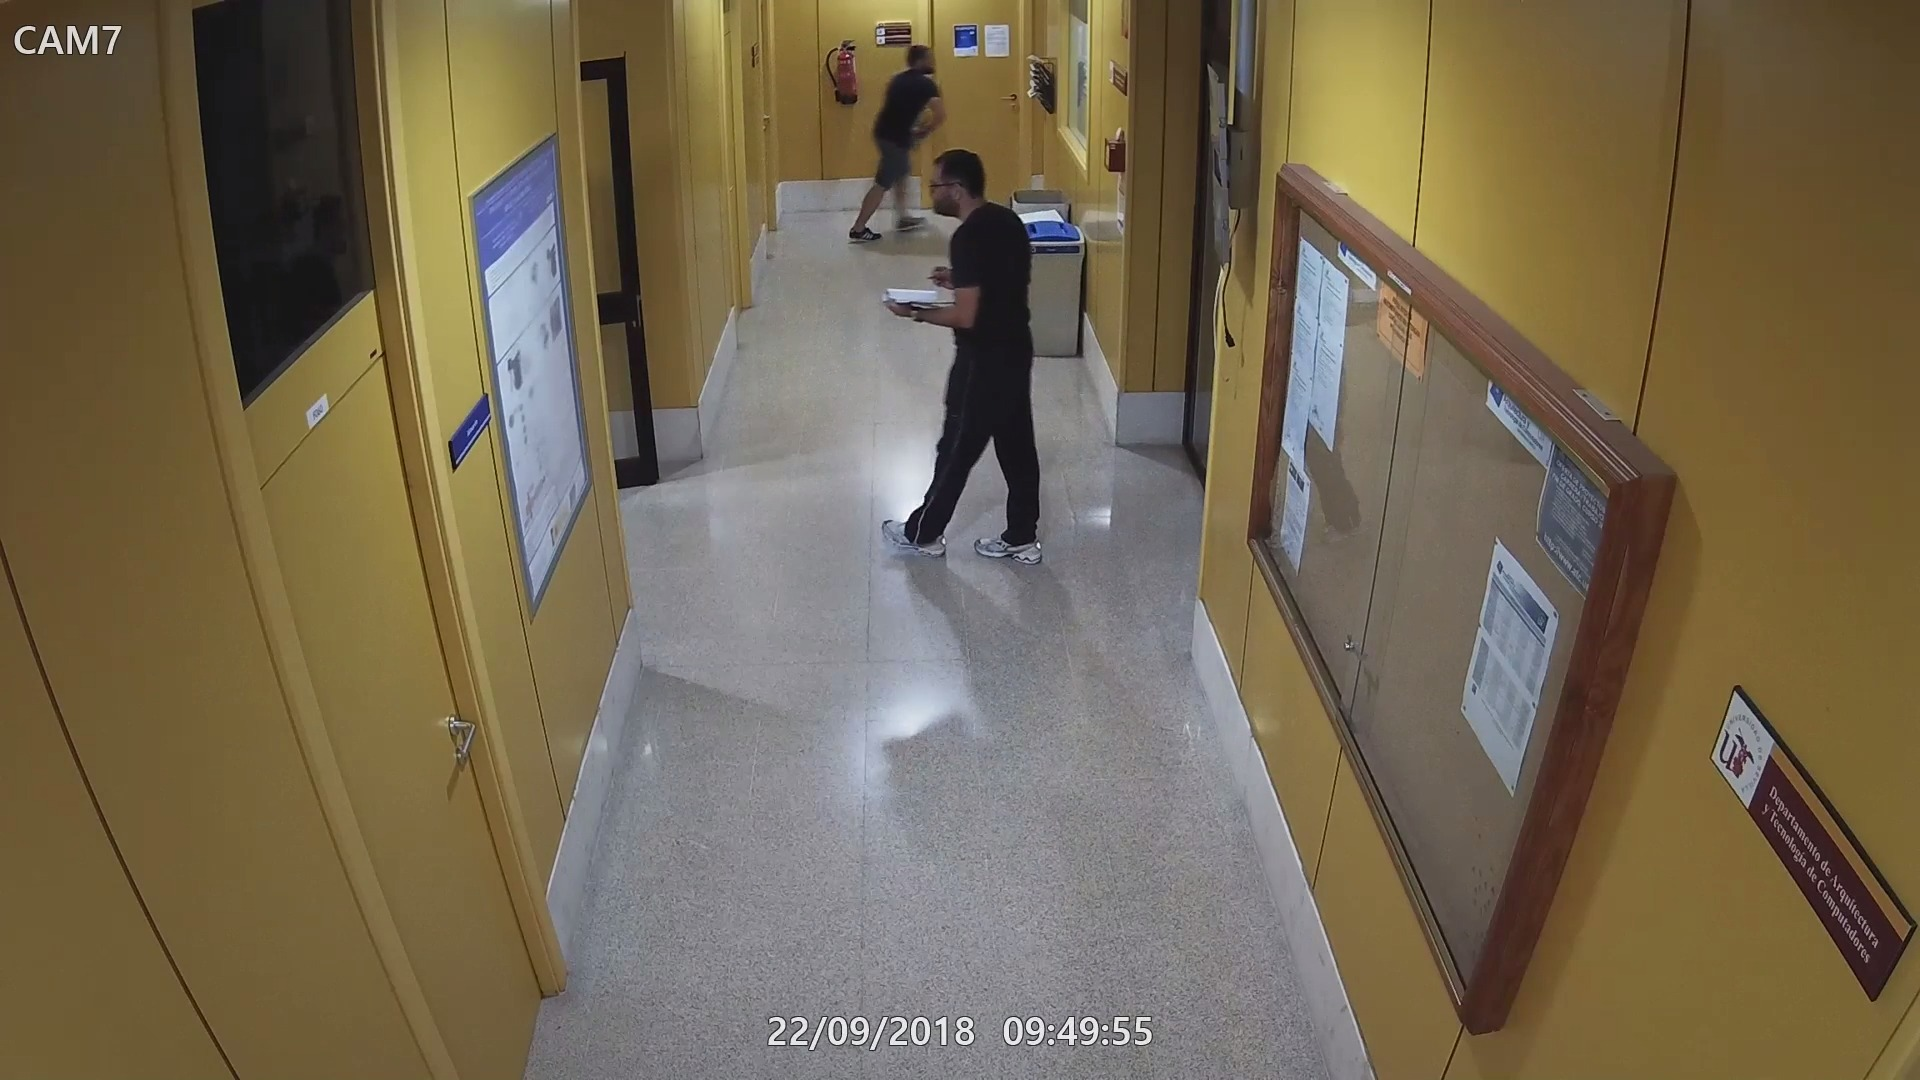Short_rifle: (905, 109, 942, 145)
